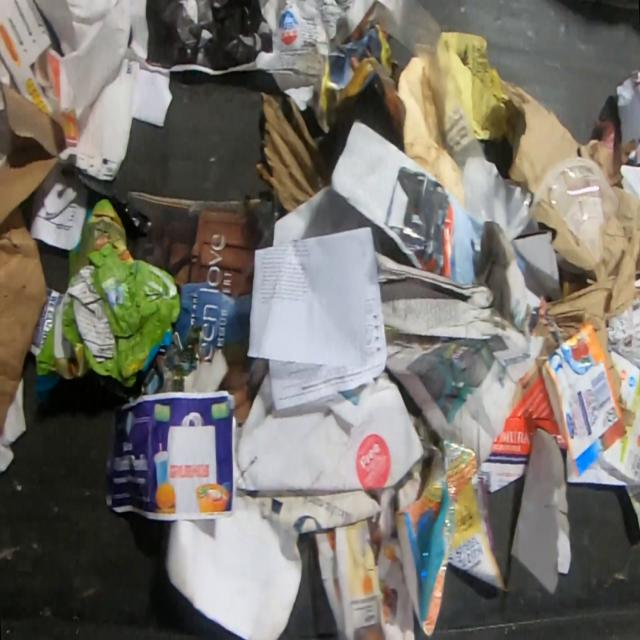cardboard: (499, 77, 640, 430), (0, 204, 48, 440), (508, 426, 573, 599), (254, 91, 333, 213), (0, 81, 66, 227)
rigid_plastic: (531, 156, 619, 265)
soft_plastic: (29, 197, 183, 404), (392, 439, 510, 638), (377, 0, 442, 70)
